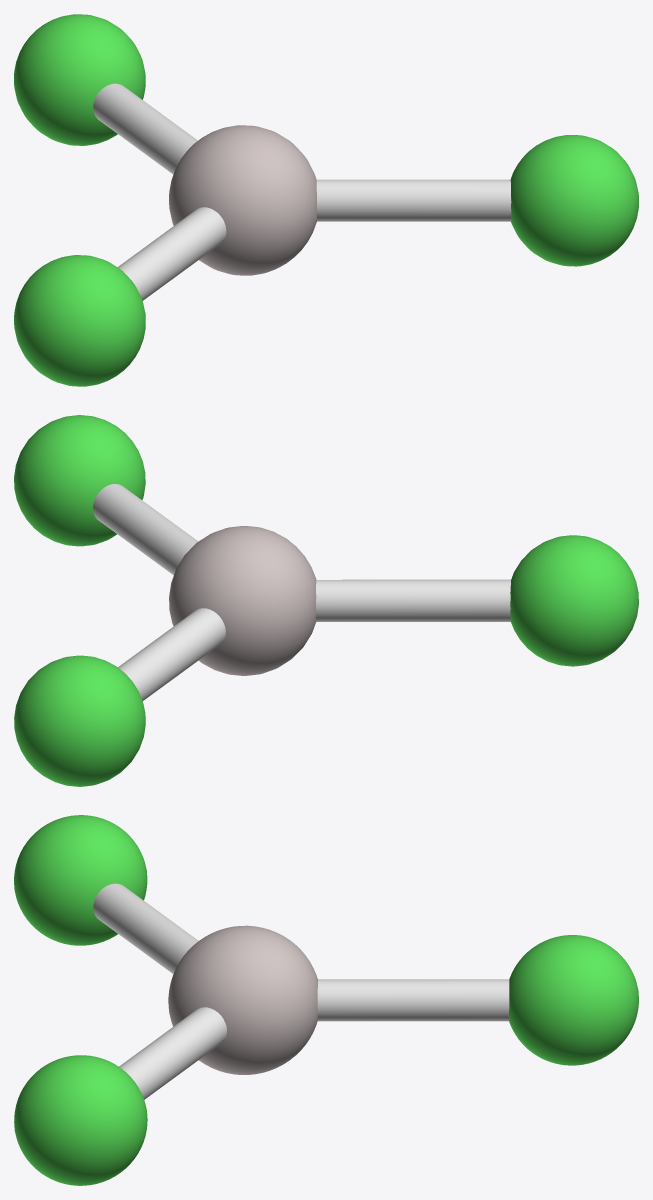
Rendered from AlCl3.fbx.
3 renders of one model, top to bottom at view 1: azimuth 30°, elevation 25°; view 2: azimuth 150°, elevation 25°; view 3: azimuth 270°, elevation 25°, orthographic.
Parts seen in each view (by area): view 1: AlCl3; view 2: AlCl3; view 3: AlCl3.
Part boxes in pixels (x1=…): AlCl3: x1=14, y1=14, x2=638, y2=386; AlCl3: x1=14, y1=415, x2=638, y2=786; AlCl3: x1=14, y1=815, x2=638, y2=1185.
Bounding box in the file's own units: 4.56 × 0.9756 × 4.08.
